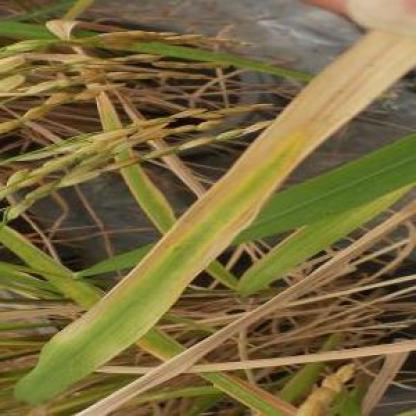Blight: (13, 30, 413, 413)
